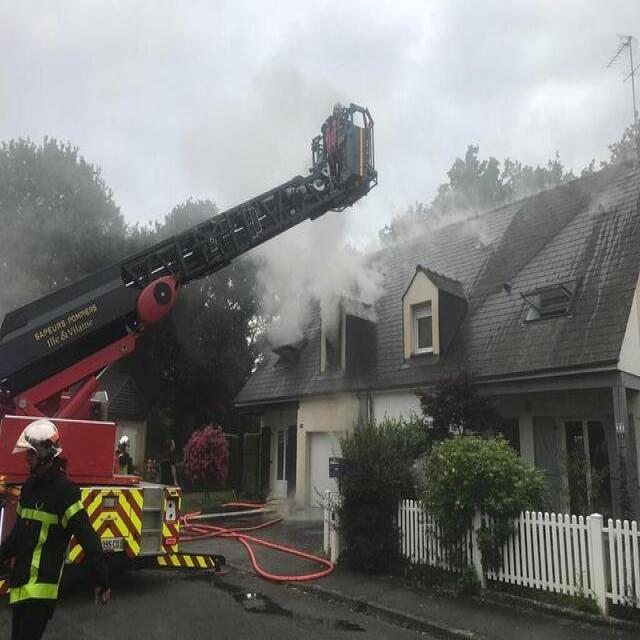Smoke: (269, 242, 367, 300)
